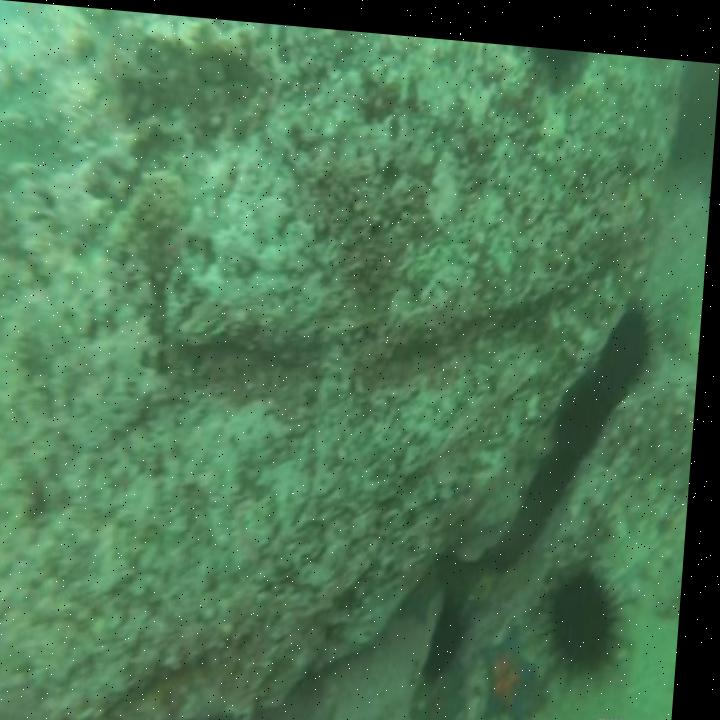echinus: (554, 536, 630, 683), (607, 277, 664, 394), (441, 577, 481, 674)
starfish: (485, 608, 556, 720), (422, 646, 477, 720)
